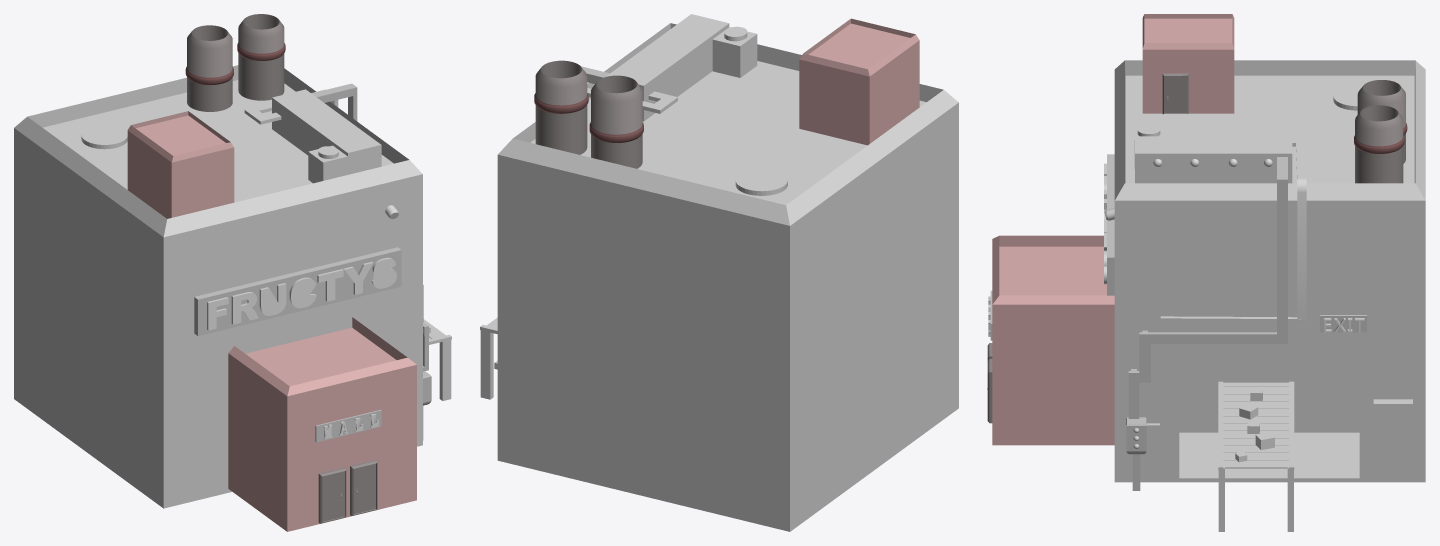
File: FABRICA.fbx
3 views of the same model, side by side, from view 1: azimuth 30°, elevation 25°; view 2: azimuth 150°, elevation 25°; view 3: azimuth 270°, elevation 25° (orthographic). The views are drawn at different scales.
Visible parts, largest first — view 1: main, front, Cube_6, Cube_4_2, Cube_9, Cylinder_2, Cylinder_1, door_3, door_2, Cube_7, Cube_1_11, Disc (+7 smaller); view 2: main, Cube_6, Cube_9, Cylinder_2, Cylinder_1, Cube_1_11, Disc, Cube_2_2, Cube_8; view 3: main, front, Cube_12, Cube_6, Cube_9, Cube_7, Cylinder_2, Cube_1_10, Cube_8, Cylinder_1, door, Cube_4_2 (+6 smaller).
Boxes of the visible parts, x1,y1,x2,y2 form: main: [14, 65, 422, 508]; front: [228, 317, 416, 531]; Cube_6: [127, 111, 234, 218]; Cube_4_2: [194, 247, 401, 336]; Cube_9: [272, 89, 381, 174]; Cylinder_2: [237, 14, 285, 100]; Cylinder_1: [185, 25, 233, 111]; door_3: [318, 467, 346, 523]; door_2: [350, 460, 377, 515]; Cube_7: [311, 83, 428, 371]; Cube_1_11: [308, 145, 347, 183]; Disc: [81, 125, 127, 149]; main: [497, 23, 958, 531]; Cube_6: [799, 18, 919, 145]; Cube_9: [606, 14, 729, 121]; Cylinder_2: [534, 60, 588, 154]; Cylinder_1: [589, 75, 643, 168]; Cube_1_11: [712, 27, 757, 77]; Disc: [735, 169, 787, 195]; Cube_2_2: [480, 330, 493, 399]; Cube_8: [587, 88, 677, 113]; main: [1114, 60, 1425, 482]; front: [992, 235, 1114, 445]; Cube_12: [1179, 344, 1359, 478]; Cube_6: [1142, 14, 1234, 113]; Cube_9: [1135, 136, 1292, 183]; Cube_7: [1128, 157, 1287, 418]; Cylinder_2: [1354, 105, 1404, 183]; Cube_1_10: [1146, 316, 1306, 432]; Cube_8: [1292, 138, 1306, 326]; Cylinder_1: [1357, 80, 1407, 163]; door: [1162, 73, 1188, 114]; Cube_4_2: [1107, 154, 1114, 295].
Bounding box in the file's own units: 522 × 513 × 564.
